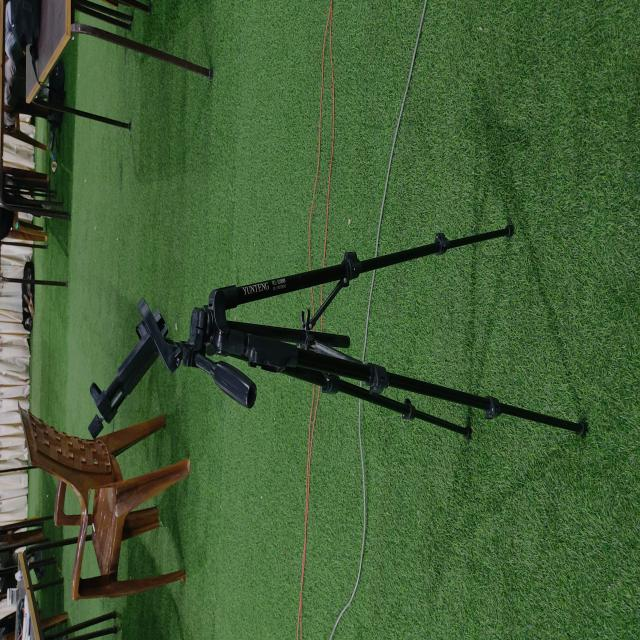Camer Stand: (87, 219, 588, 447)
Chair: (17, 399, 191, 602)
